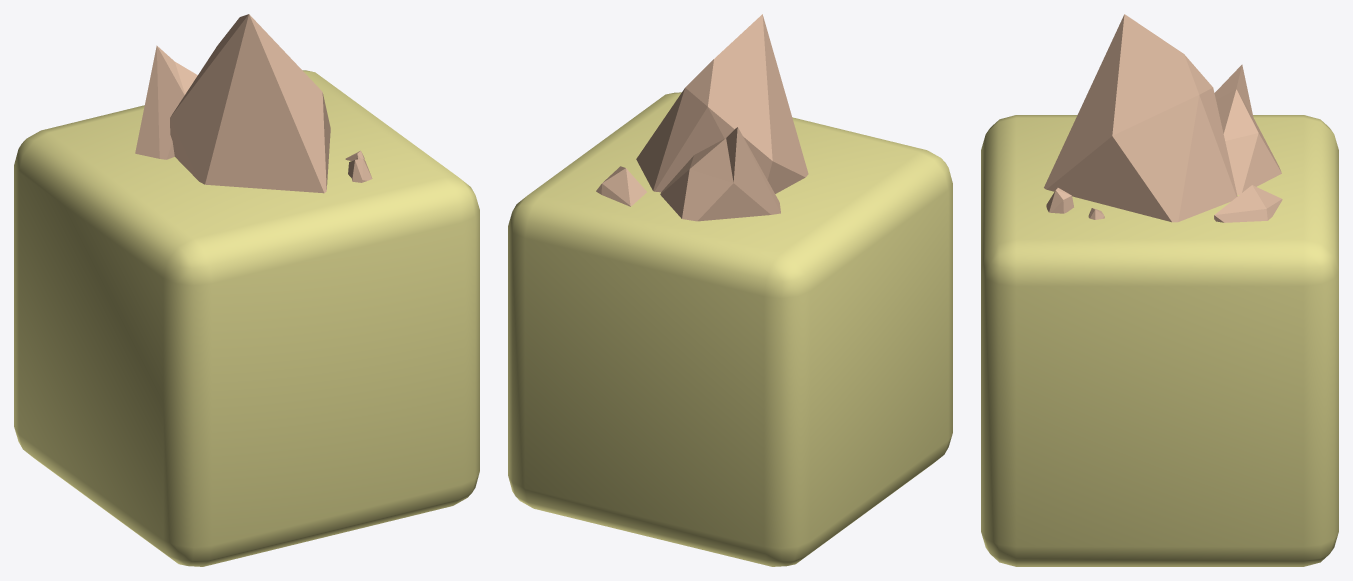
File: mountain3.fbx
3 views of the same model, side by side, from view 1: azimuth 30°, elevation 25°; view 2: azimuth 150°, elevation 25°; view 3: azimuth 270°, elevation 25° (orthographic). The views are drawn at different scales.
Parts seen in each view (by area): view 1: Cube.061, Icosphere.028, Icosphere.027; view 2: Cube.061, Icosphere.028, Icosphere.027, Icosphere.024; view 3: Cube.061, Icosphere.028, Icosphere.027, Icosphere.024, Icosphere.023.
Boxes of the visible parts, x1,y1,x2,y2 form: Cube.061: [14, 70, 479, 566]; Icosphere.028: [170, 14, 330, 193]; Icosphere.027: [135, 45, 197, 159]; Cube.061: [508, 92, 952, 566]; Icosphere.028: [636, 14, 808, 193]; Icosphere.027: [660, 127, 780, 221]; Icosphere.024: [596, 166, 646, 206]; Cube.061: [981, 115, 1338, 566]; Icosphere.028: [1044, 14, 1237, 222]; Icosphere.027: [1214, 64, 1281, 195]; Icosphere.024: [1214, 185, 1282, 222]; Icosphere.023: [1046, 188, 1073, 213].
Size of the model in its own units: 200 by 297 by 200.
